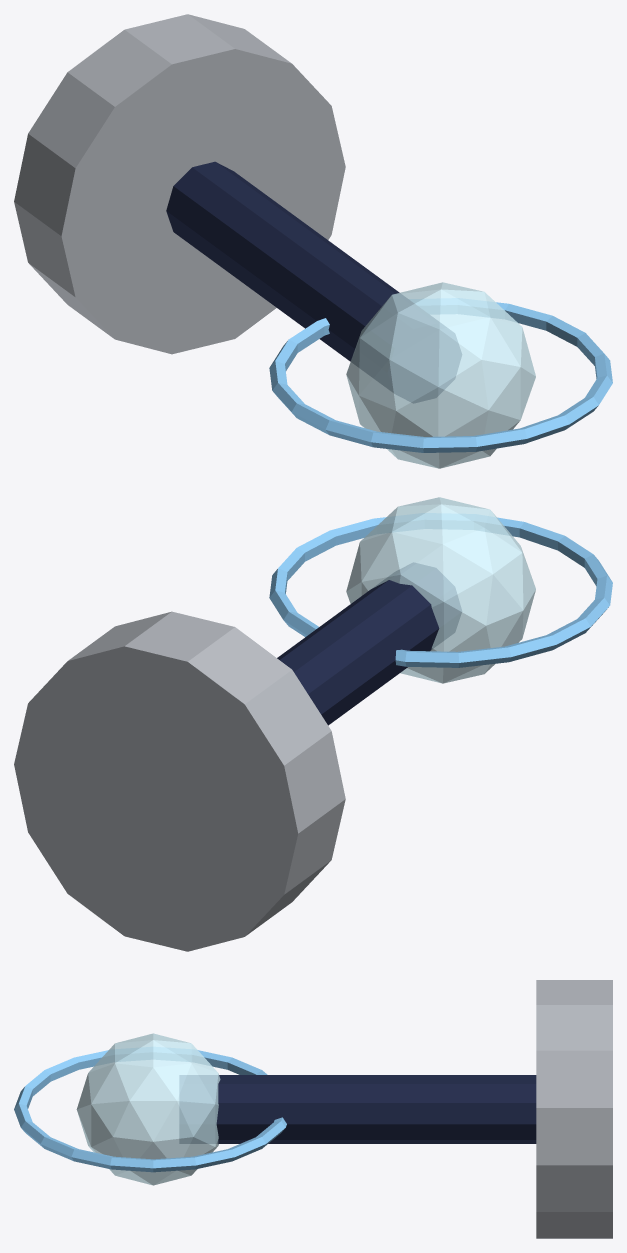
The model's file is 03_world_landmark_light.glb.
3 renders of one model, top to bottom at view 1: azimuth 30°, elevation 25°; view 2: azimuth 150°, elevation 25°; view 3: azimuth 270°, elevation 25°, orthographic. The views are drawn at different scales.
Visible parts, largest first — view 1: light_base, light_column, light_core, light_halo; view 2: light_base, light_core, light_column, light_halo; view 3: light_column, light_base, light_core, light_halo.
Part boxes in pixels (bbox=[...]): light_base: bbox=[14, 14, 345, 354]; light_column: bbox=[166, 161, 461, 402]; light_core: bbox=[346, 282, 535, 468]; light_halo: bbox=[269, 298, 612, 452]; light_base: bbox=[14, 611, 345, 951]; light_core: bbox=[346, 497, 535, 683]; light_column: bbox=[277, 563, 461, 725]; light_halo: bbox=[269, 513, 612, 667]; light_column: bbox=[180, 1075, 536, 1143]; light_base: bbox=[536, 980, 612, 1238]; light_core: bbox=[76, 1033, 220, 1185]; light_halo: bbox=[14, 1047, 286, 1172].
Size of the model in its own units: 0.8 by 0.7409 by 1.72.
